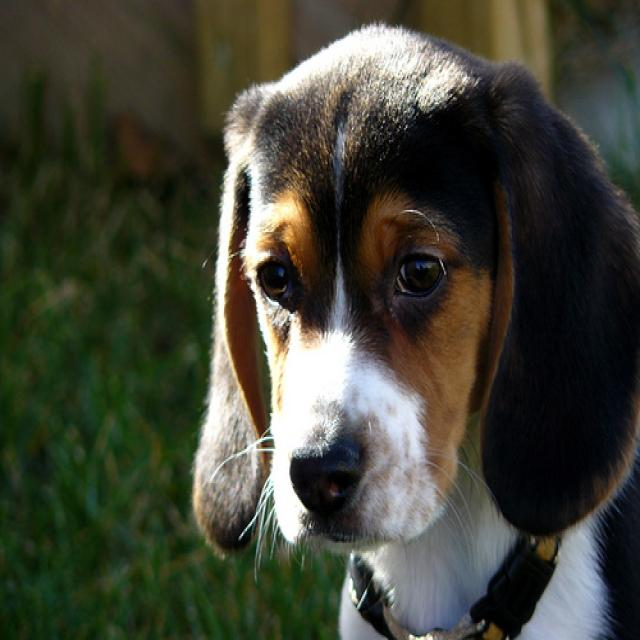dog: (191, 26, 638, 553)
